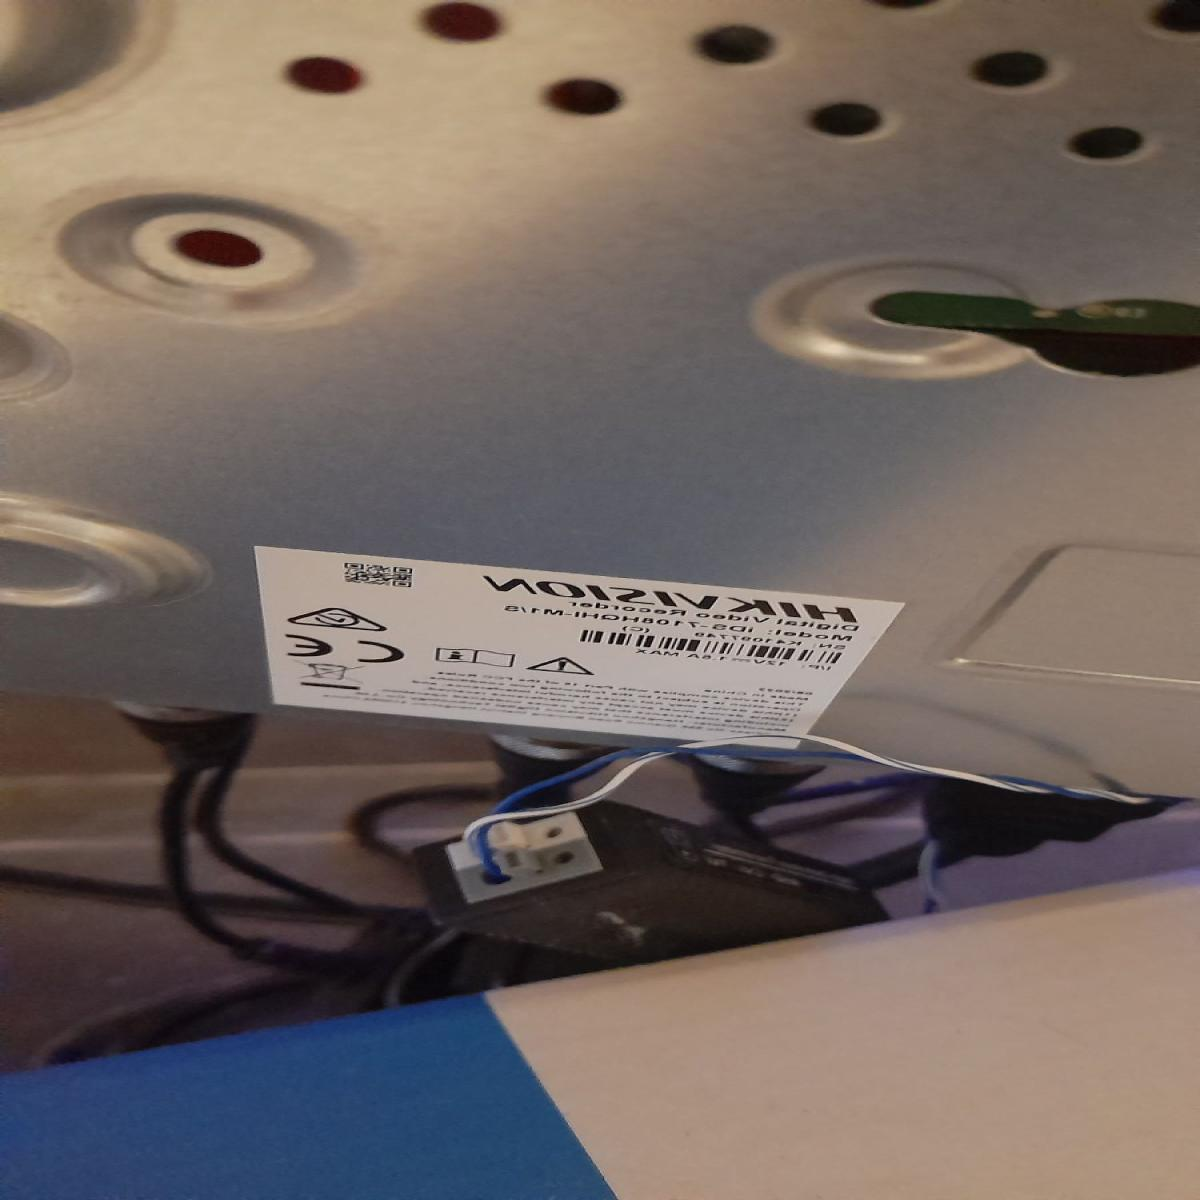Barcode: (573, 626, 845, 665)
Label: (267, 546, 885, 742)
